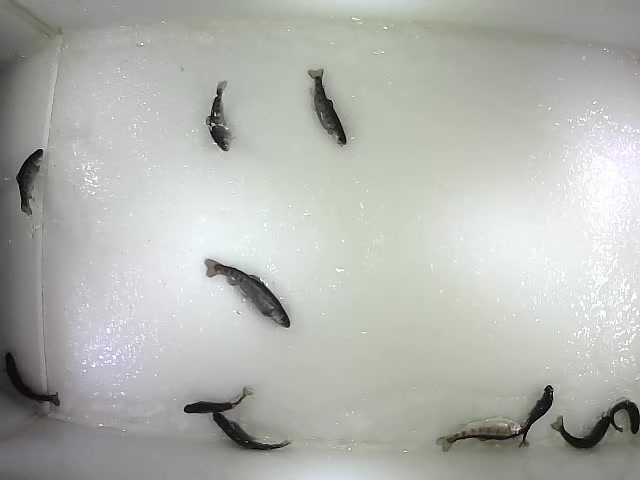fish: (202, 257, 292, 330), (305, 67, 349, 150), (3, 350, 63, 408), (211, 409, 292, 451), (434, 418, 524, 451), (519, 383, 556, 449), (203, 79, 235, 155), (182, 385, 256, 415), (15, 147, 45, 220), (551, 415, 611, 450), (605, 396, 640, 436)
